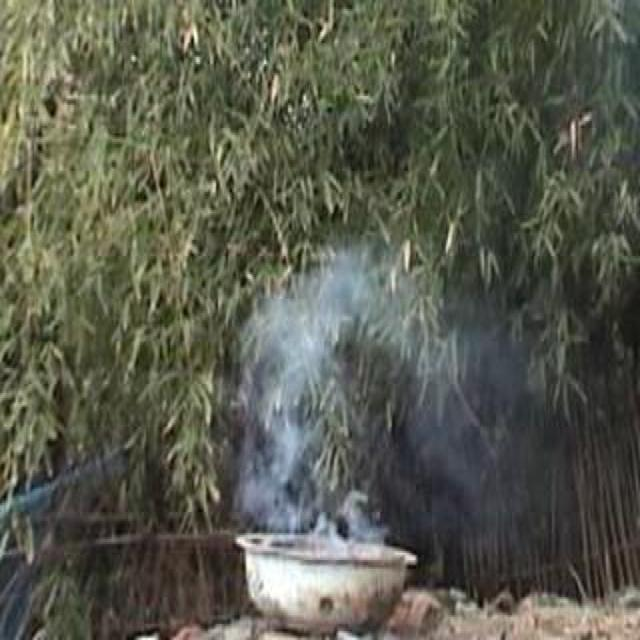Smoke: (232, 242, 402, 562)
